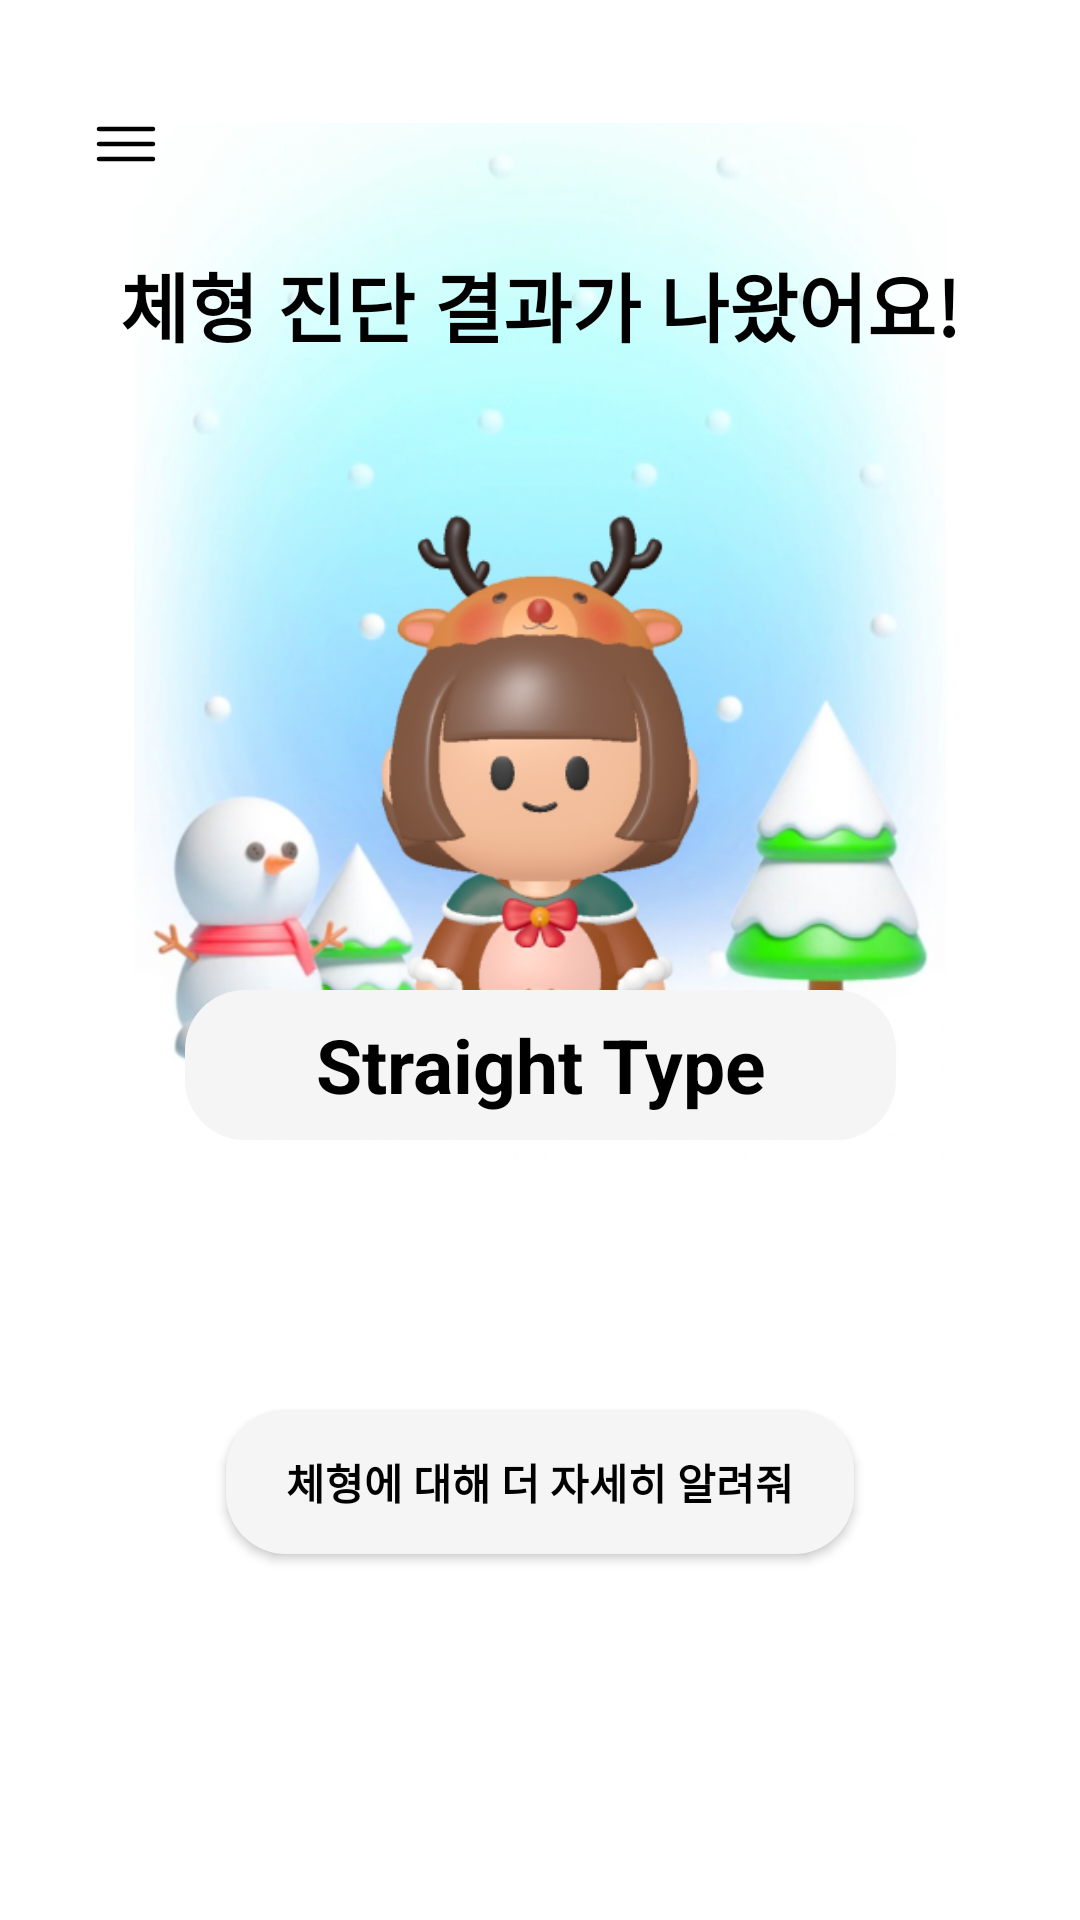

Screen size 1080x1920. Icon name, then its box in pixels as (x1, y1, x2, y2):
hamburger menu: (96, 126, 155, 162)
